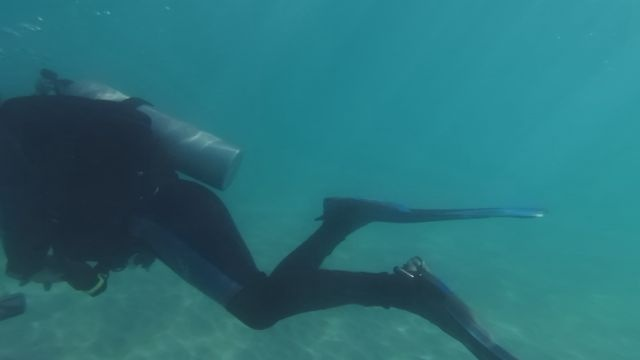Diver: (1, 63, 562, 356)
